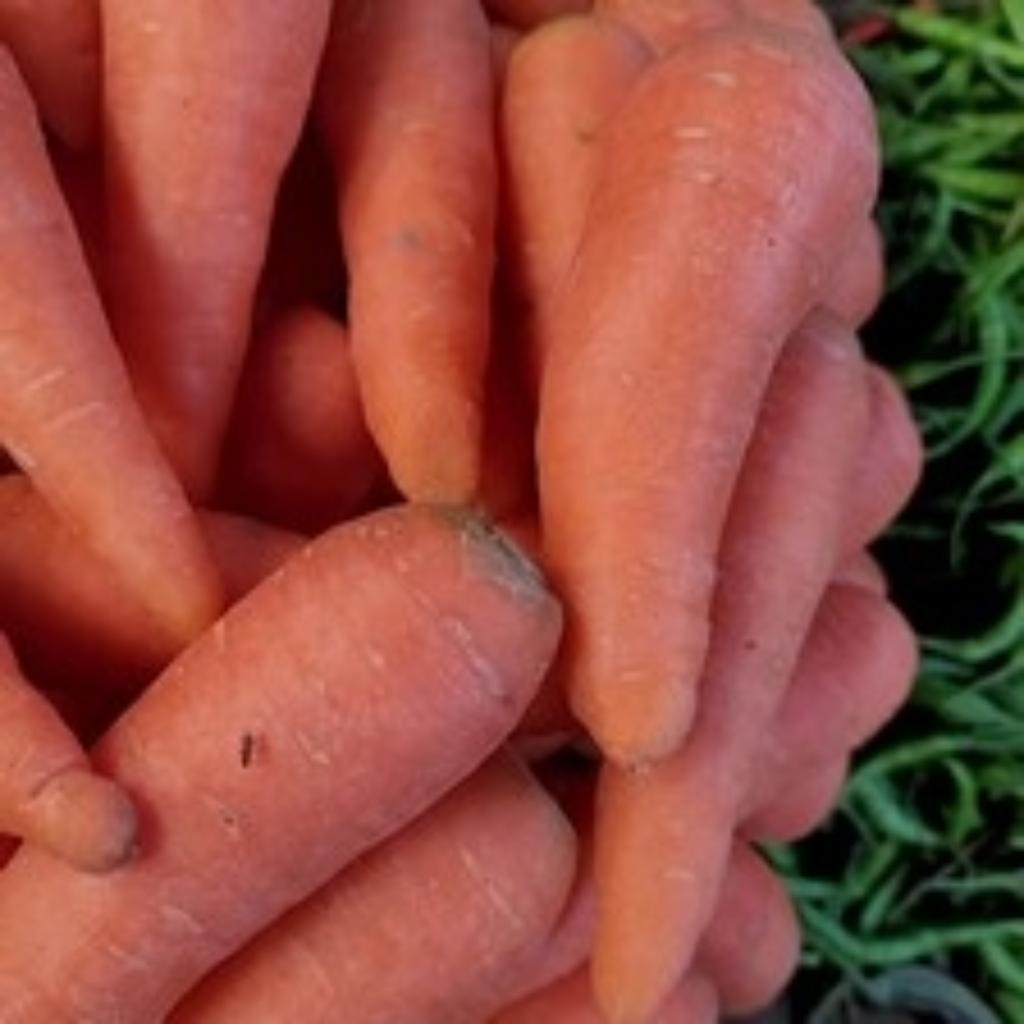carrot: (0, 506, 560, 1024)
